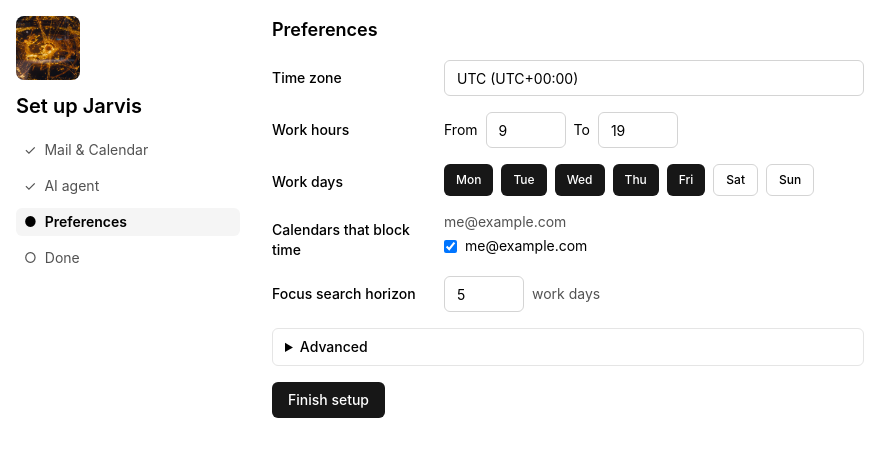
preferences step › blocks submit with a message when start is not before end
Replace the text in the number field labelled "From" with "20" at (526, 130), box top-left (486, 112), bottom-right (566, 148)
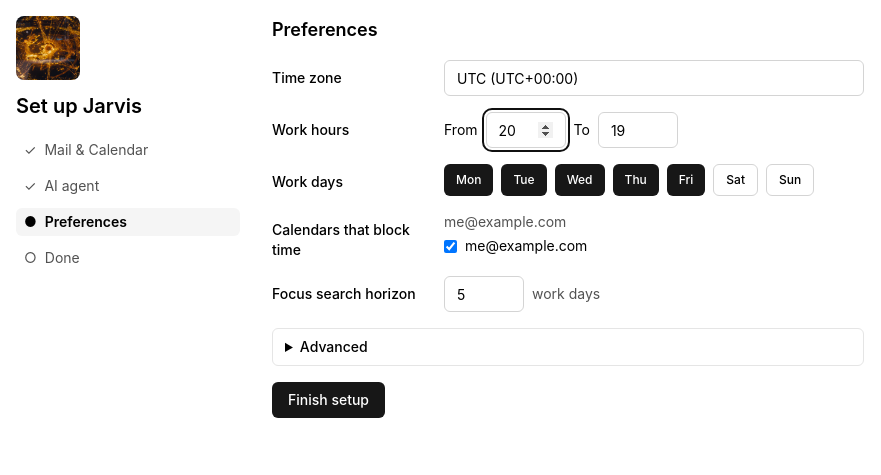
Click the button "Finish setup".
click(328, 400)  # box top-left (272, 382), bottom-right (385, 418)
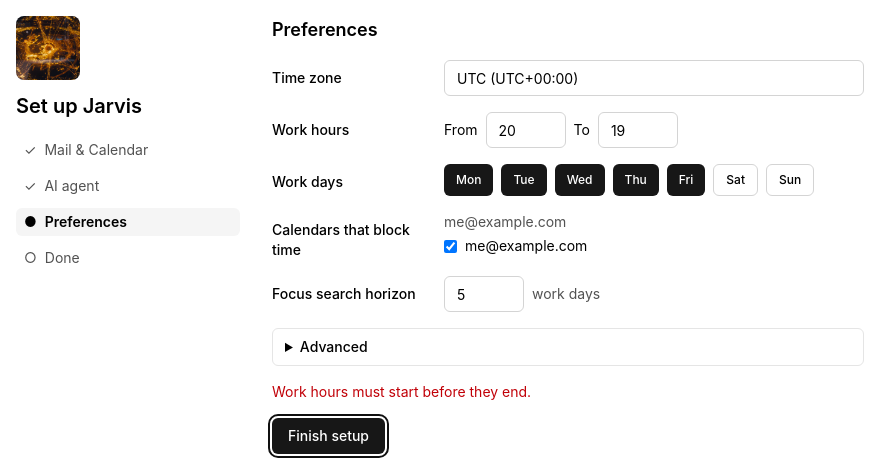
Now the message shows "before", box top-left (272, 383), bottom-right (531, 400)
